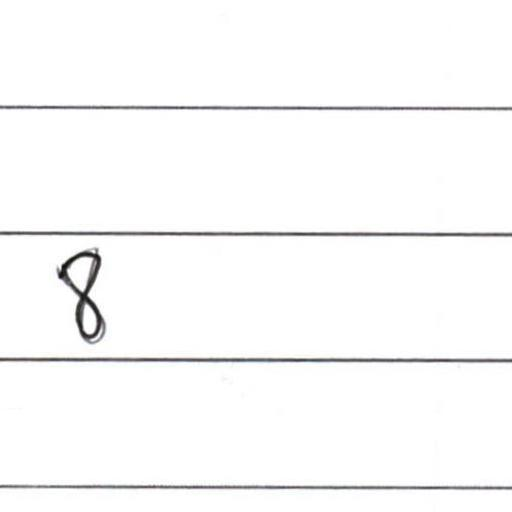ans: (47, 240, 109, 343)
